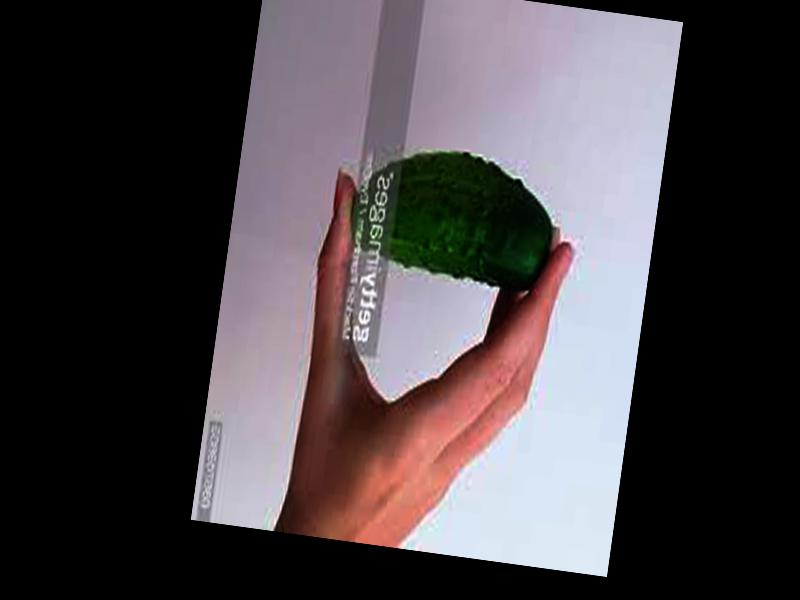Cucumber: (343, 137, 561, 292)
